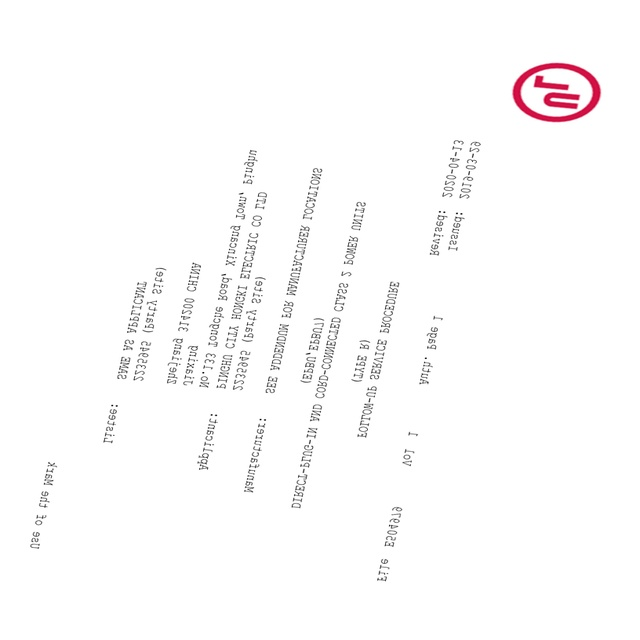ul: (512, 61, 602, 123)
